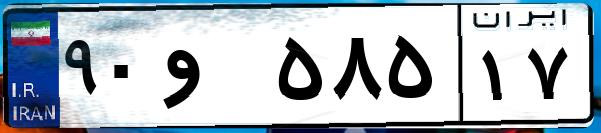0: (110, 28, 158, 98)
1: (475, 38, 525, 113)
5: (270, 28, 330, 110), (385, 28, 445, 110)
7: (525, 38, 570, 115)
8: (330, 28, 385, 110)
9: (57, 26, 110, 100)
و: (158, 20, 270, 120)
